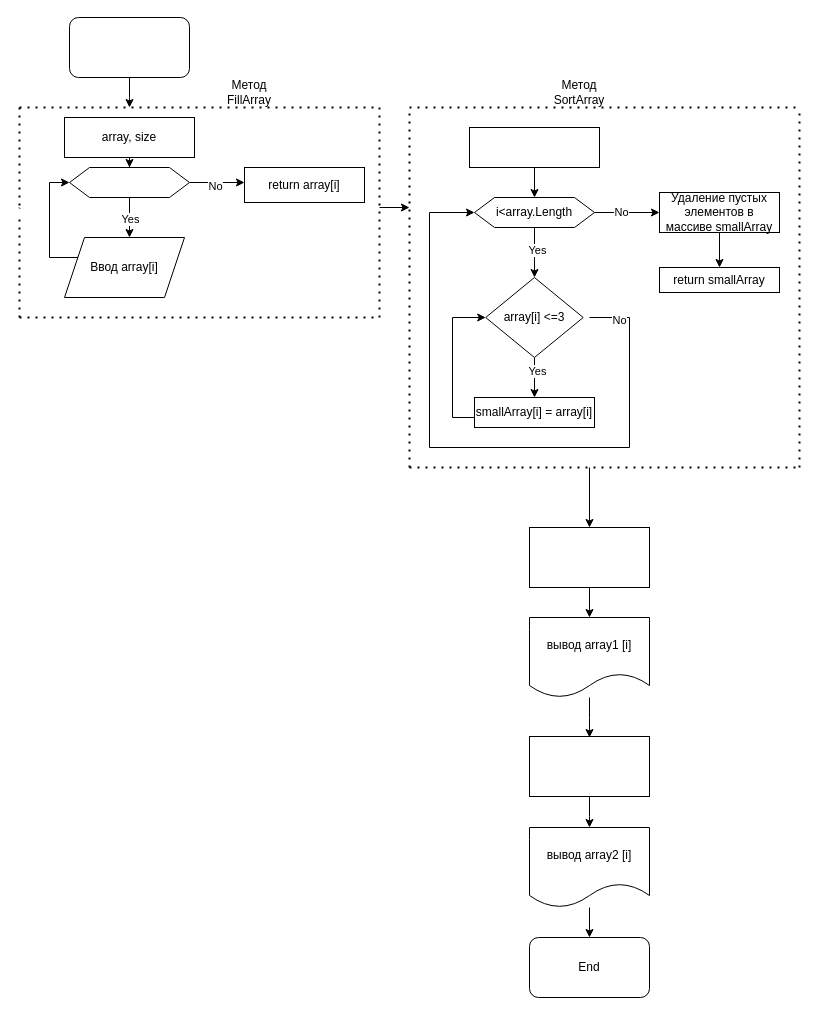
The diagram is 818 pixels wide and 1015 high, and some of its shapes have lost their labels. The shapes that lost their labels are listed below. From the top down, each one's centre as x and y in pixels, then its label:
(129,47): Start
(534,147): smallArray, array
(129,182): i<size
(589,557): array1[i]
(589,766): array2[i]
